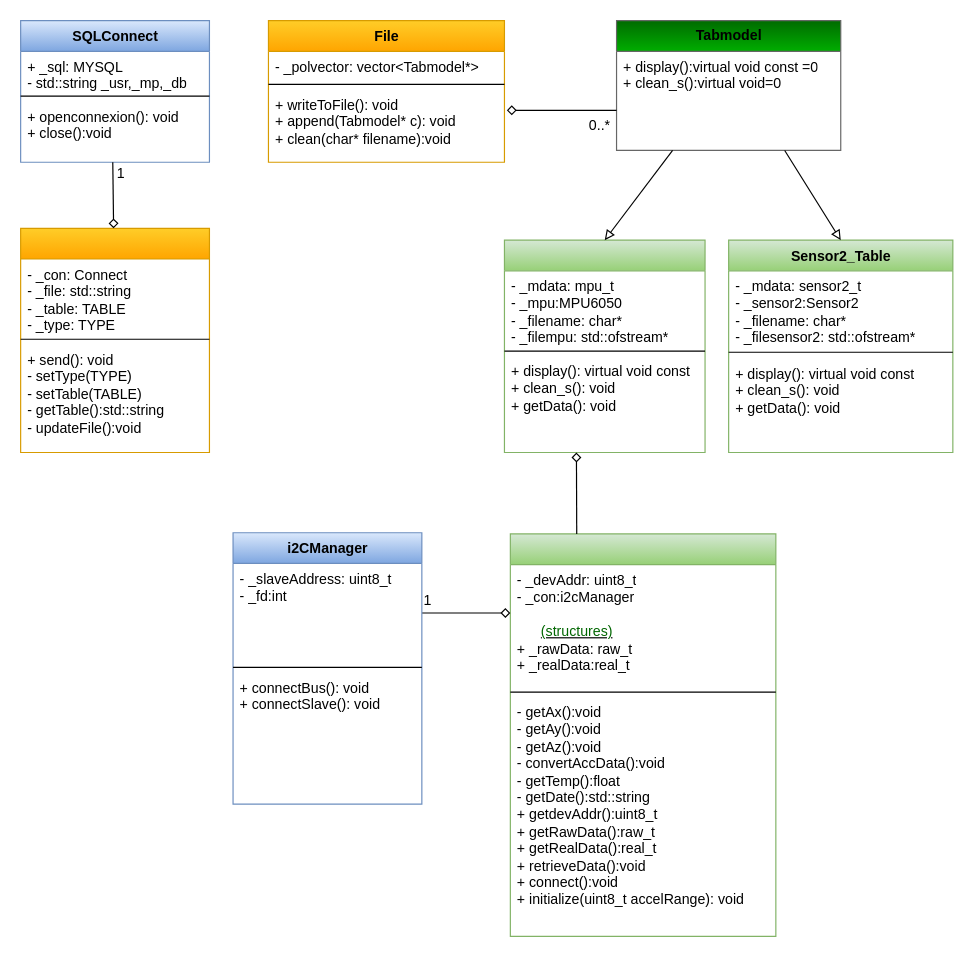
This 973x957 diagram has some shape labels left out. Here are the shapes that lost their labels. From the top down, the box of each, then its label:
(19, 227, 209, 453): Query
(503, 239, 705, 453): MPU6050_Table
(509, 533, 776, 936): MPU6050
